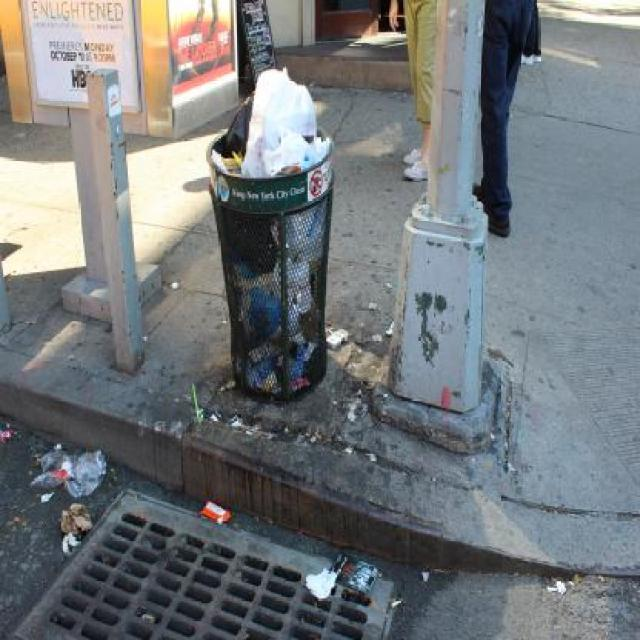garbage: (211, 82, 394, 443), (5, 420, 115, 548), (305, 538, 382, 616), (200, 488, 238, 538)
